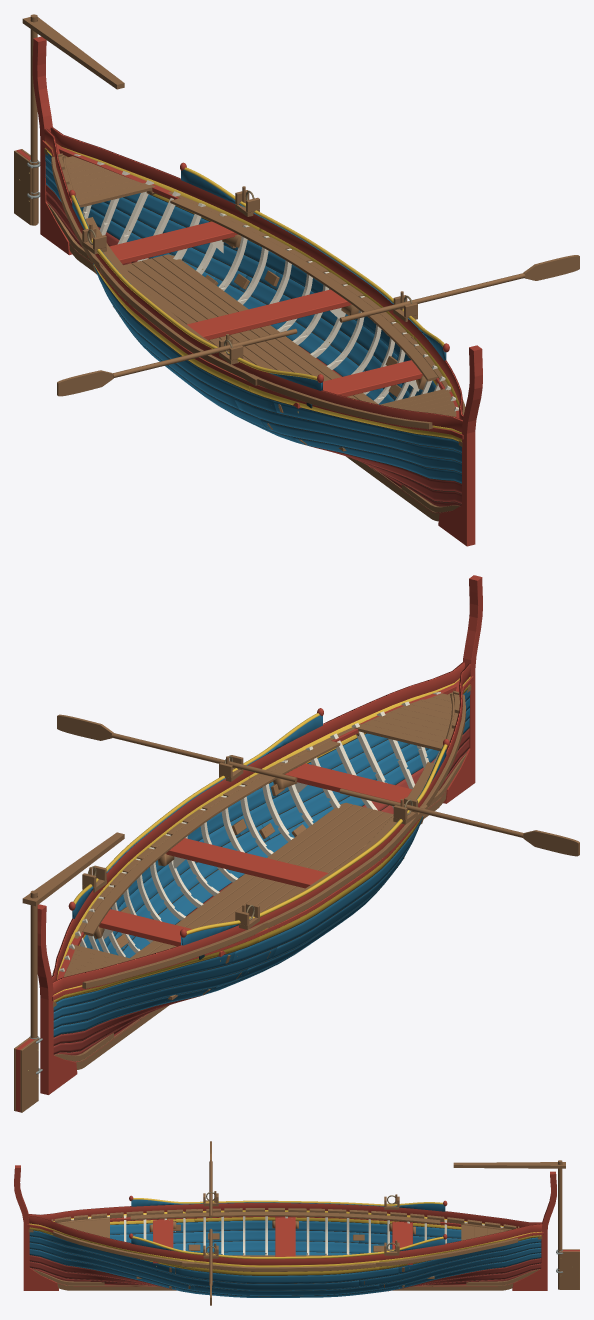
Rendered from pass-mobile.glb.
3 views of the same model, one above another, from view 1: azimuth 30°, elevation 25°; view 2: azimuth 150°, elevation 25°; view 3: azimuth 270°, elevation 25° (orthographic). The views are drawn at different scales.
Parts seen in each view (by area): view 1: washboards-173, washboards-74, bow-post-5, catwalks-204, thwarts-344, stern-post-6, thwarts-331, planking-52, planking-57, thwarts-357, planking-58, planking-38 (+36 smaller); view 2: washboards-173, washboards-74, catwalks-204, thwarts-344, stern-post-6, bow-post-5, planking-57, thwarts-357, planking-50, planking-130, floorboards-330, thwarts-331 (+39 smaller); view 3: washboards-173, washboards-74, planking-156, planking-57, catwalks-105, planking-37, bow-post-5, stern-post-6, planking-151, sheer-strake-170, planking-51, planking-149 (+47 smaller).
Boxes of the visible parts, x1,y1,x2,y2 form: washboards-173: (50, 127, 463, 419); washboards-74: (44, 128, 462, 432); bow-post-5: (438, 345, 482, 546); catwalks-204: (170, 198, 437, 381); thwarts-344: (187, 289, 351, 340); stern-post-6: (32, 36, 72, 255); thwarts-331: (87, 221, 237, 264); planking-52: (234, 398, 461, 462); planking-57: (95, 268, 276, 412); thwarts-357: (293, 360, 422, 408); planking-58: (273, 400, 461, 452); planking-38: (261, 419, 461, 473); washboards-173: (51, 662, 464, 981); washboards-74: (52, 663, 471, 994); catwalks-204: (82, 740, 340, 936); thwarts-344: (166, 838, 327, 888); stern-post-6: (37, 904, 77, 1094); bow-post-5: (443, 575, 482, 803); planking-57: (232, 818, 421, 963); thwarts-357: (285, 763, 411, 802); planking-50: (53, 947, 277, 1019); planking-130: (123, 827, 295, 958); floorboards-330: (130, 802, 352, 959); thwarts-331: (99, 909, 225, 956); washboards-173: (28, 1215, 542, 1265); washboards-74: (28, 1203, 542, 1228); planking-156: (175, 1267, 398, 1283); planking-57: (175, 1220, 392, 1233); catwalks-105: (130, 1211, 440, 1224); planking-37: (194, 1241, 379, 1253); bow-post-5: (14, 1165, 58, 1290); stern-post-6: (512, 1171, 556, 1290); planking-151: (29, 1236, 213, 1287); sheer-strake-170: (194, 1260, 379, 1275); planking-51: (213, 1230, 358, 1242); planking-149: (359, 1242, 541, 1286).
Size of the model in its own units: 4.36 by 1.67 by 6.67.
